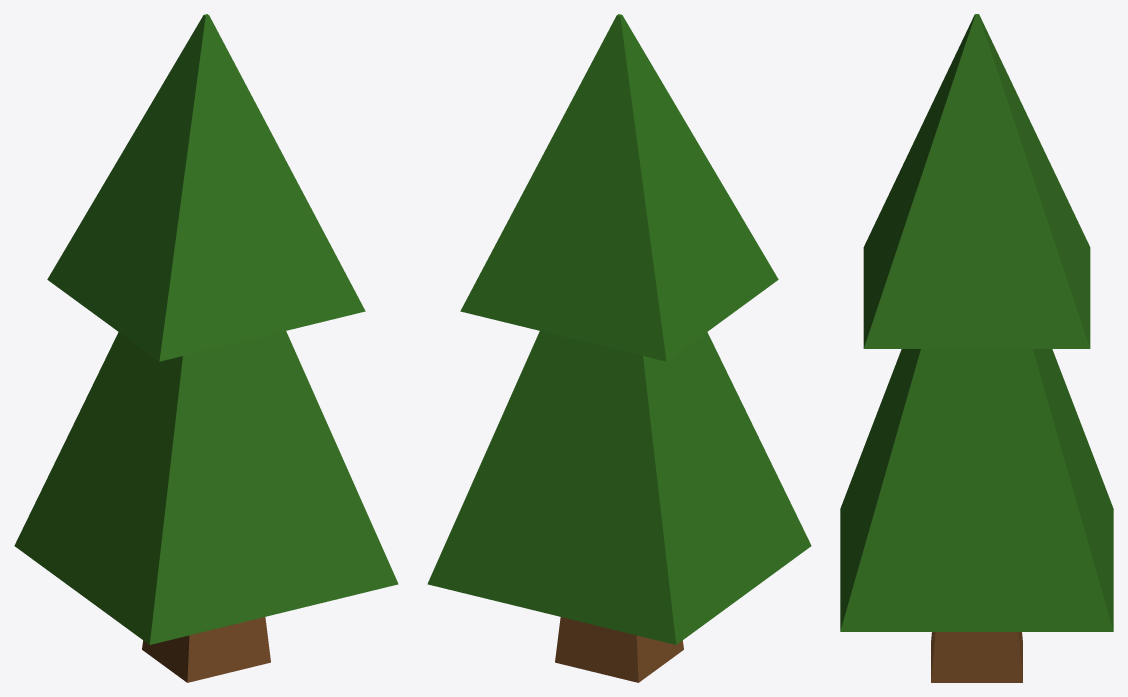
File: 세모나무.fbx
3 renders of one model, left to right at view 1: azimuth 30°, elevation 25°; view 2: azimuth 150°, elevation 25°; view 3: azimuth 270°, elevation 25°, orthographic.
Parts seen in each view (by area): view 1: Box002; view 2: Box002; view 3: Box002.
Boxes of the visible parts, x1=… form: Box002: x1=14, y1=14, x2=398, y2=682; Box002: x1=427, y1=14, x2=811, y2=682; Box002: x1=840, y1=14, x2=1113, y2=682.
Bounding box in the file's own units: 17.57 × 43.22 × 16.55.
Materials: 1 (1 with a texture image).
